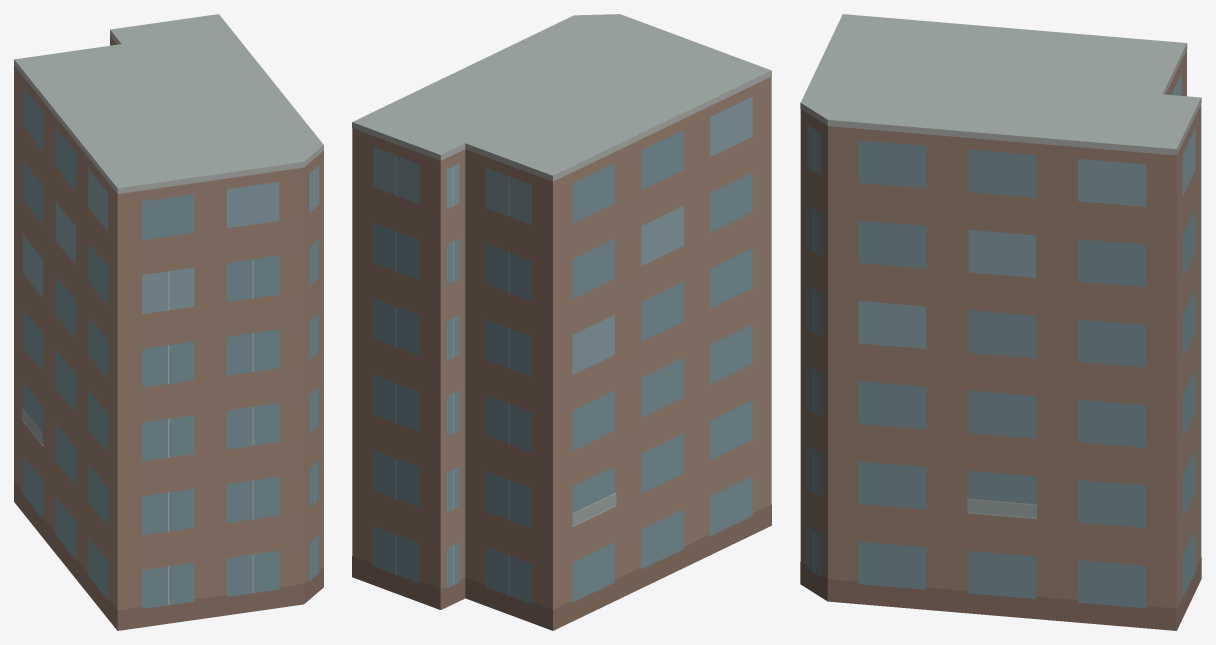
The model's file is survey-upis-32668513.glb.
3 views of the same model, side by side, from view 1: azimuth 30°, elevation 25°; view 2: azimuth 150°, elevation 25°; view 3: azimuth 270°, elevation 25° (orthographic). The views are drawn at different scales.
Parts seen in each view (by area): view 1: survey-upis-32668513.tmp; view 2: survey-upis-32668513.tmp; view 3: survey-upis-32668513.tmp.
Boxes of the visible parts, left/top/right/bottom form: survey-upis-32668513.tmp: left=14, top=14, right=323, bottom=630; survey-upis-32668513.tmp: left=352, top=14, right=771, bottom=630; survey-upis-32668513.tmp: left=800, top=14, right=1201, bottom=630.
Size of the model in its own units: 11.39 by 18.9 by 14.27.
